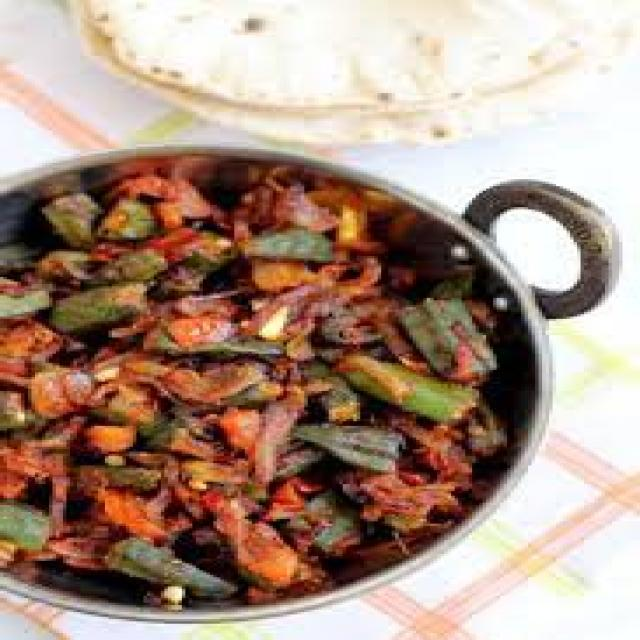Bhindi Masala: (0, 161, 509, 606)
